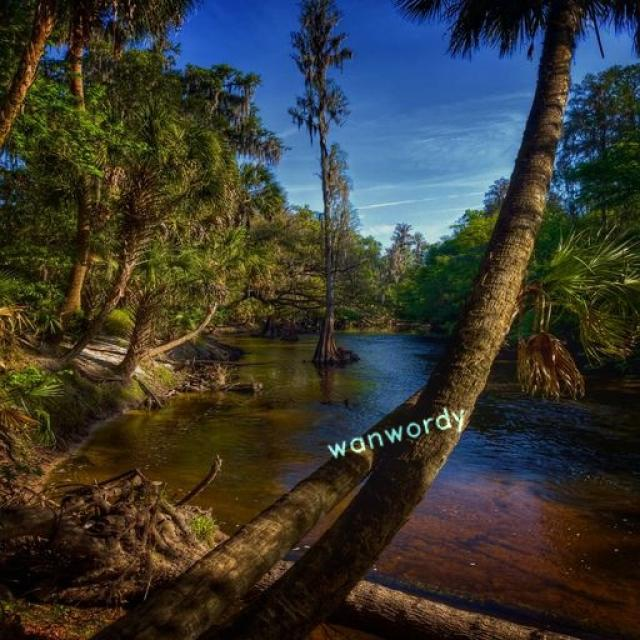watermark: (322, 400, 468, 463)
